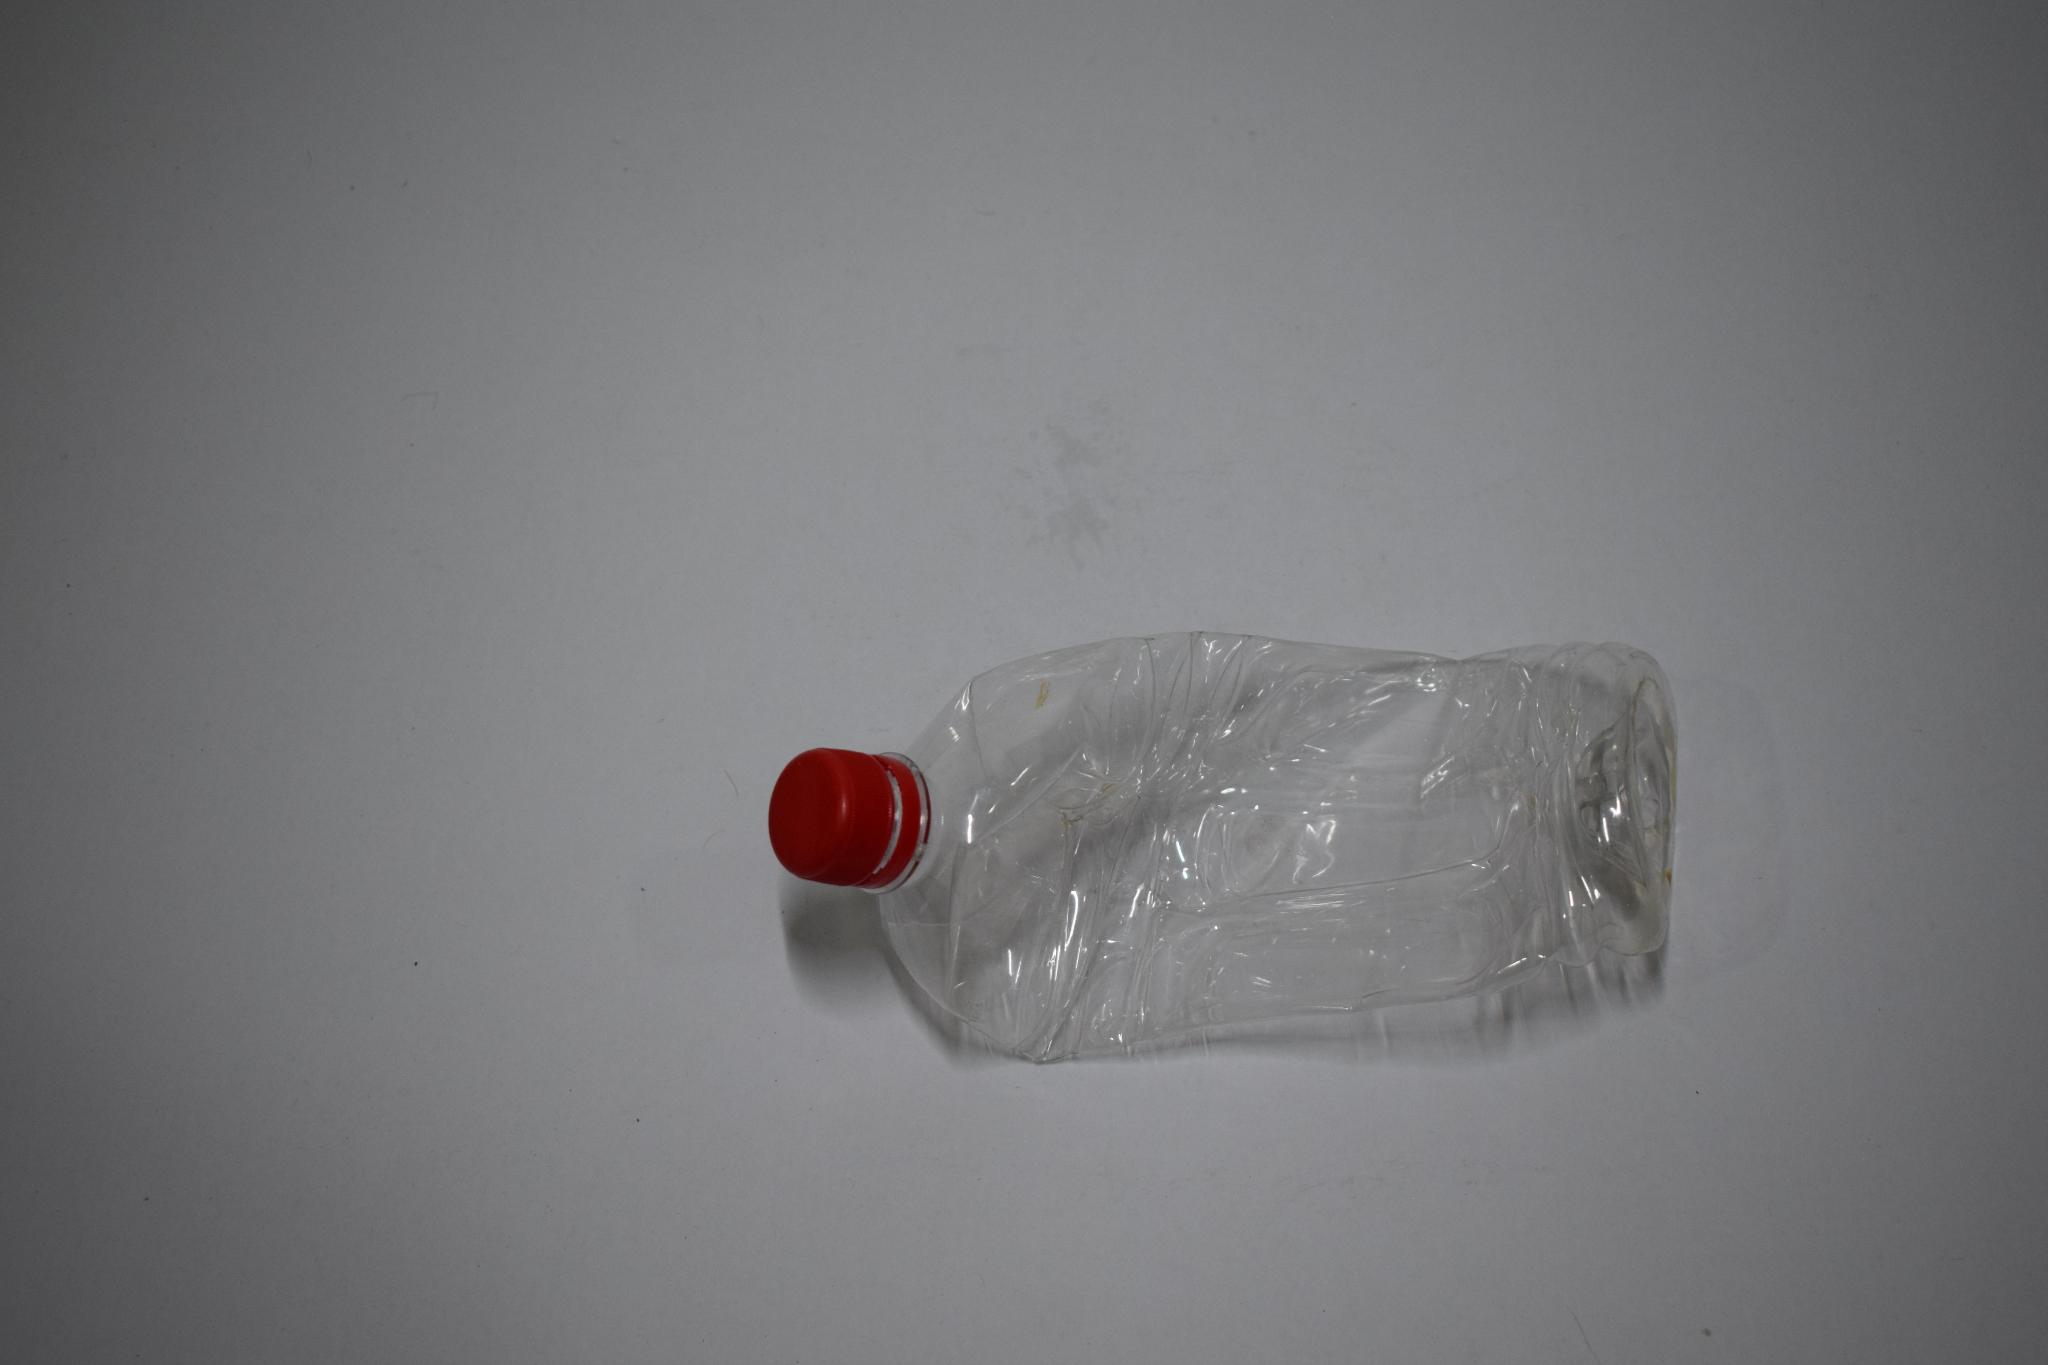bottle: (732, 625, 1721, 1074)
